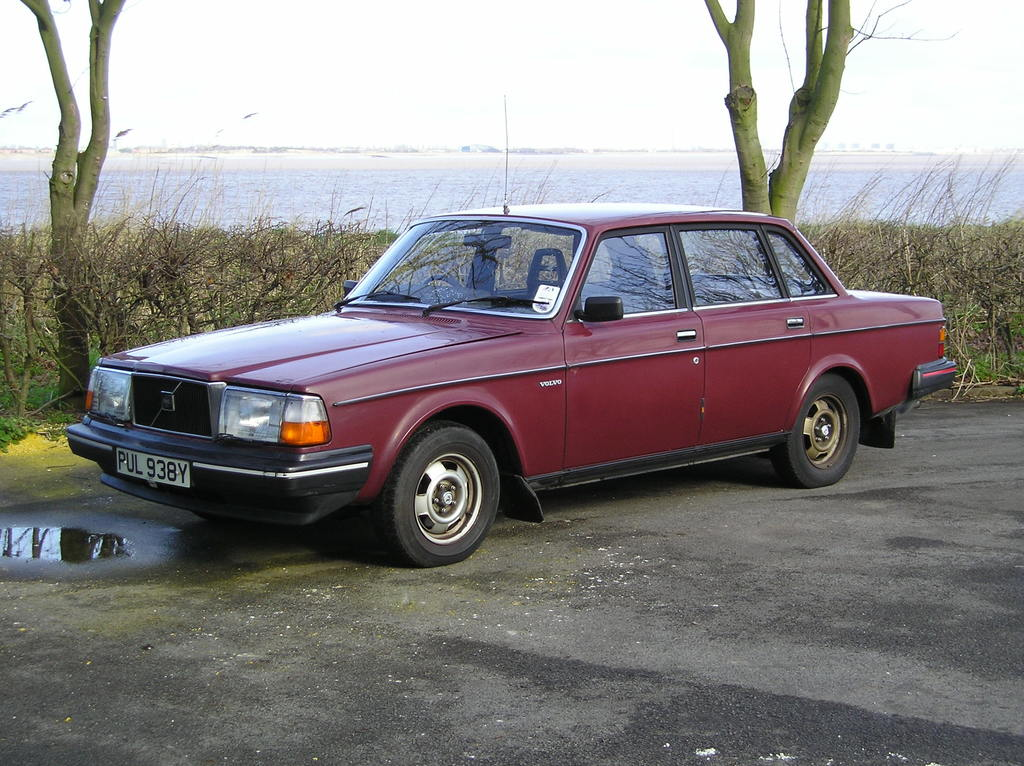Car: (72, 205, 947, 563)
